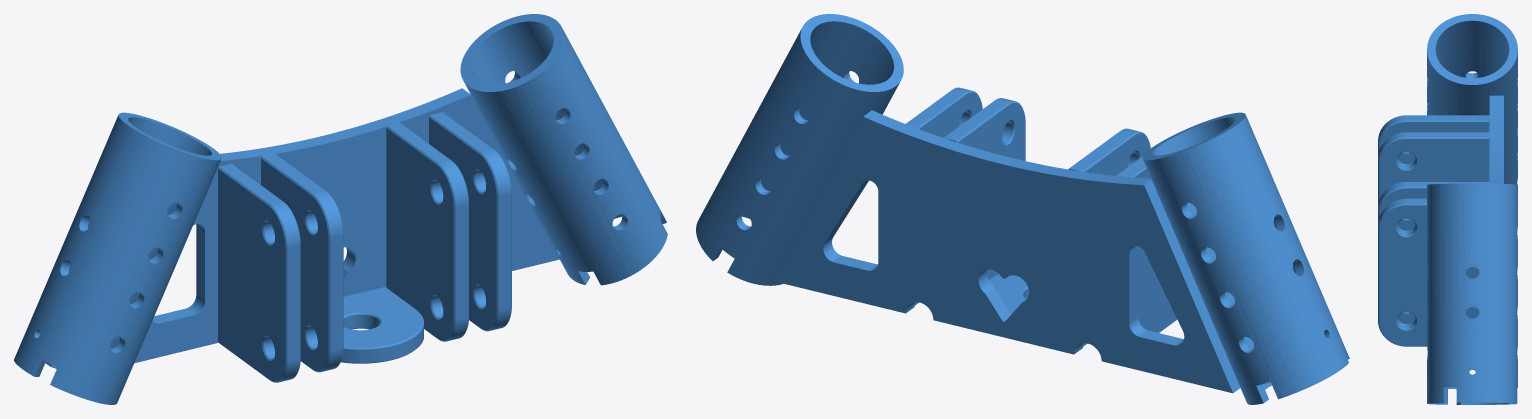
The model's file is aframe_v8.glb.
3 views of the same model, side by side, from view 1: azimuth 30°, elevation 25°; view 2: azimuth 150°, elevation 25°; view 3: azimuth 270°, elevation 25° (orthographic). The views are drawn at different scales.
Parts seen in each view (by area): view 1: c_02a, c_02b, c_01, c_03a, c_03c, c_03b, c_03d, c_04; view 2: c_01, c_02a, c_02b, c_03c, c_03a, c_03b, c_03d, c_04; view 3: c_02b, c_02a, c_03d, c_03b, c_03a, c_01, c_03c.
Boxes of the visible parts, box(x1,y1,x2,y2) form: c_02a: box(14, 112, 221, 404); c_02b: box(460, 14, 667, 285); c_01: box(134, 88, 559, 363); c_03a: box(218, 163, 300, 382); c_03c: box(386, 122, 468, 341); c_03b: box(261, 153, 343, 372); c_03d: box(429, 112, 511, 331); c_04: box(341, 287, 423, 363); c_01: box(774, 110, 1240, 393); c_02a: box(1142, 112, 1349, 404); c_02b: box(696, 14, 903, 285); c_03c: box(944, 98, 1025, 279); c_03a: box(1116, 156, 1177, 332); c_03b: box(1068, 128, 1150, 346); c_03d: box(906, 87, 982, 305); c_04: box(989, 274, 1028, 314); c_02b: box(1427, 183, 1517, 404); c_02a: box(1427, 14, 1517, 184); c_03d: box(1378, 198, 1479, 346); c_03b: box(1378, 132, 1489, 204); c_03a: box(1378, 115, 1489, 163); c_01: box(1489, 95, 1503, 183); c_03c: box(1378, 182, 1489, 323).
Bounding box in the file's own units: 417 × 165 × 97.75.
